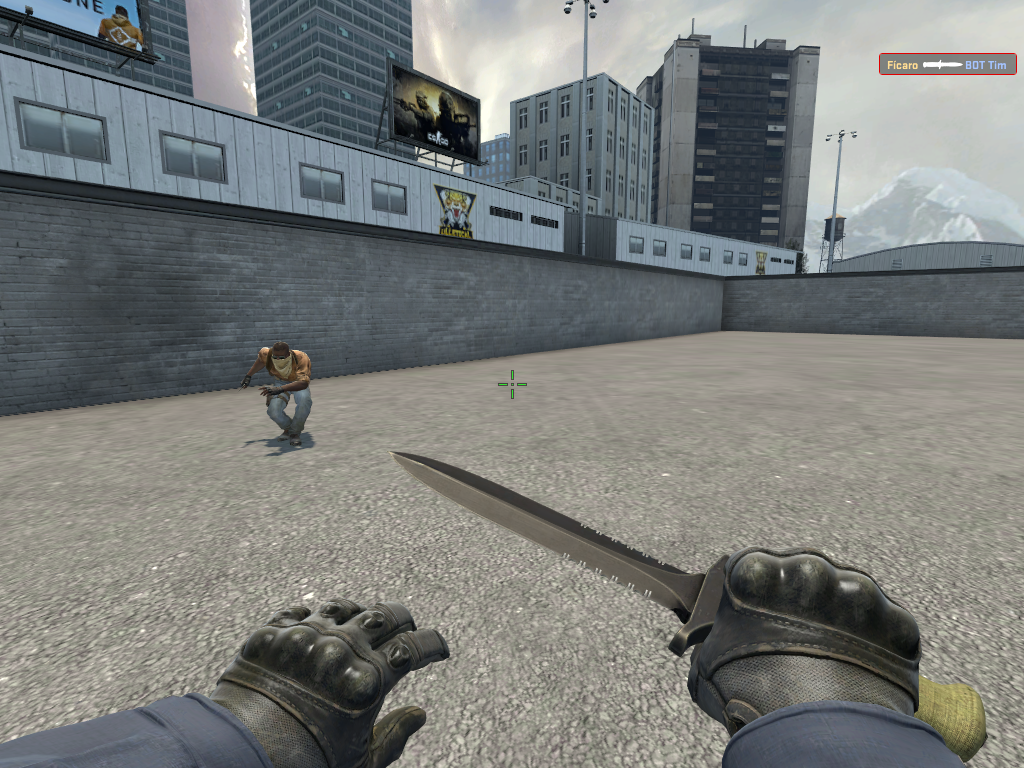tr head: (270, 338, 291, 372)
